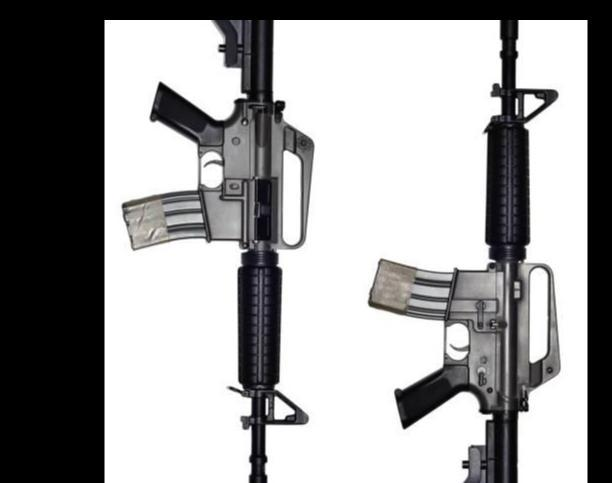larga: (120, 19, 316, 483), (368, 19, 561, 483)
